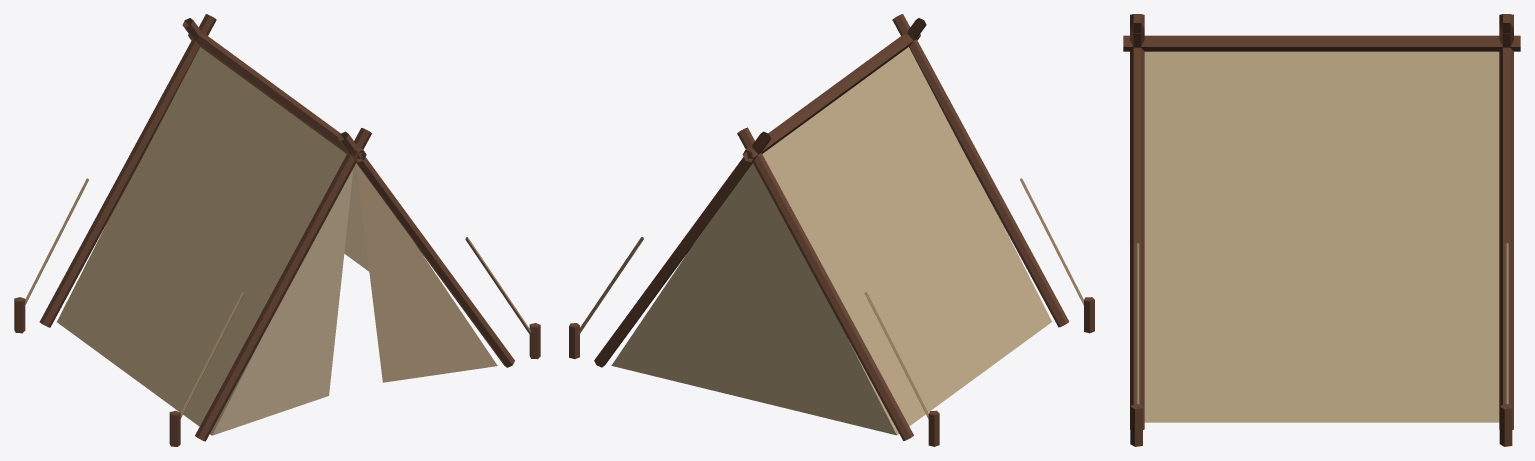
The picture shows the model from 3 angles, left to right: view 1: azimuth 30°, elevation 25°; view 2: azimuth 150°, elevation 25°; view 3: azimuth 270°, elevation 25°; orthographic projection. The views are drawn at different scales.
Parts seen in each view (by area): view 1: C01_原木A字帐篷; view 2: C01_原木A字帐篷; view 3: C01_原木A字帐篷.
Boxes of the visible parts, <box> form: C01_原木A字帐篷: <box>14,14,540,446</box>; C01_原木A字帐篷: <box>569,14,1094,446</box>; C01_原木A字帐篷: <box>1123,14,1520,446</box>.
Bounding box in the file's own units: 2.2 × 1.55 × 1.72.
